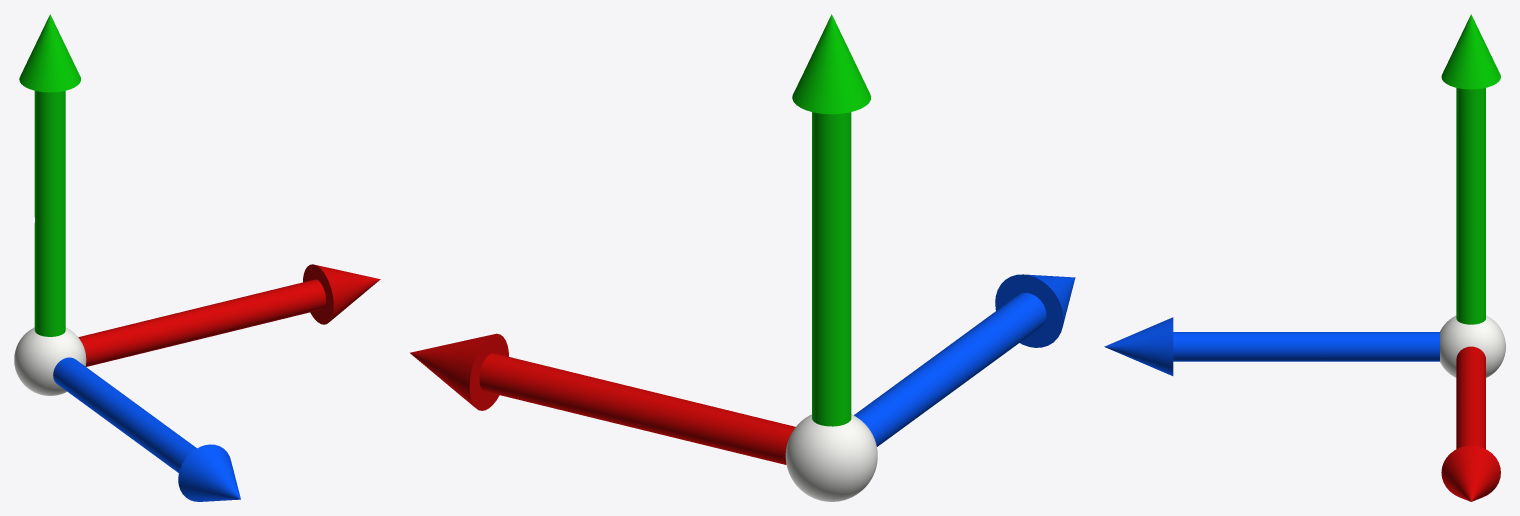
Rendered from 3D_Coordinate_System.fbx.
3 views of the same model, side by side, from view 1: azimuth 30°, elevation 25°; view 2: azimuth 150°, elevation 25°; view 3: azimuth 270°, elevation 25° (orthographic). The views are drawn at different scales.
Visible parts, largest first — view 1: Body1, Body3, Body4, Body2; view 2: Body1, Body3, Body4, Body2; view 3: Body4, Body1, Body3, Body2.
Part boxes in pixels (bbox=[...]): Body1: bbox=[19, 14, 80, 336]; Body3: bbox=[78, 264, 380, 366]; Body4: bbox=[53, 357, 240, 501]; Body2: bbox=[14, 327, 86, 395]; Body1: bbox=[792, 14, 870, 426]; Body3: bbox=[410, 333, 795, 464]; Body4: bbox=[854, 274, 1075, 446]; Body2: bbox=[785, 414, 877, 501]; Body4: bbox=[1104, 317, 1439, 375]; Body1: bbox=[1441, 14, 1500, 324]; Body3: bbox=[1441, 346, 1500, 501]; Body2: bbox=[1440, 315, 1505, 377].
Size of the model in its own units: 202 by 202 by 202.
